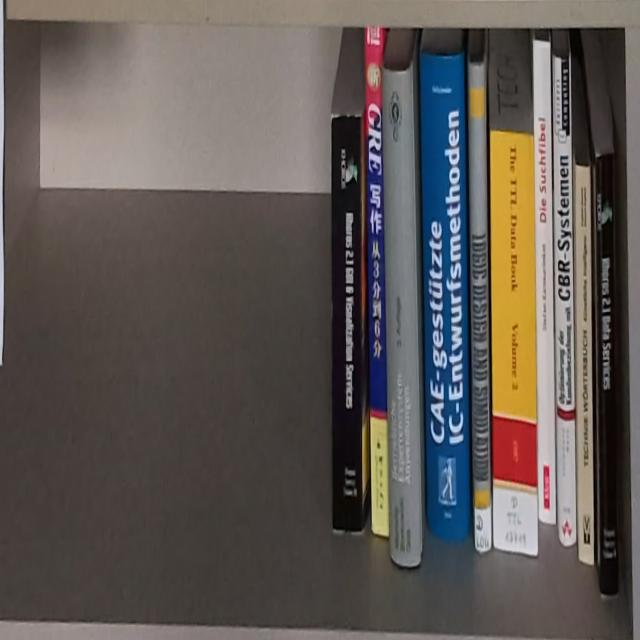Book Spine: (419, 47, 473, 539), (491, 132, 538, 558), (383, 64, 422, 570), (330, 111, 363, 536), (365, 22, 390, 538), (593, 152, 620, 596), (553, 56, 577, 546), (532, 40, 556, 526), (469, 57, 492, 555), (574, 164, 594, 564)
